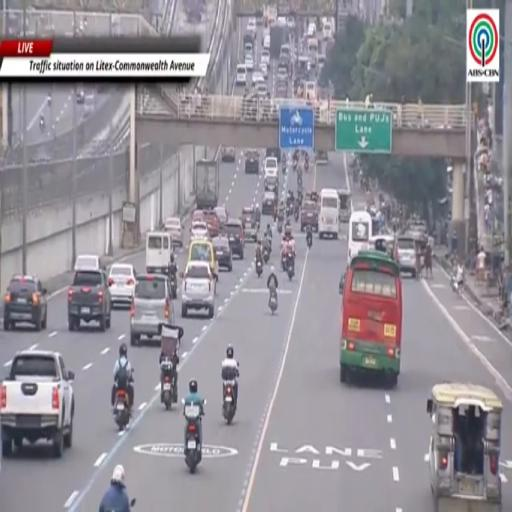bus: (340, 251, 402, 387), (348, 211, 372, 262), (319, 188, 339, 238)
car: (130, 275, 173, 345), (68, 269, 111, 331), (4, 276, 47, 330), (182, 262, 215, 317), (108, 263, 136, 308), (397, 236, 416, 277), (225, 219, 244, 259), (213, 236, 232, 271), (241, 207, 258, 242), (165, 217, 184, 247), (301, 201, 318, 232), (203, 209, 220, 238), (74, 254, 102, 270), (190, 221, 210, 240), (264, 169, 278, 193), (262, 191, 276, 215), (215, 205, 228, 230), (245, 150, 259, 173), (236, 63, 247, 86), (264, 156, 278, 174), (266, 148, 281, 162), (277, 64, 288, 83), (252, 72, 266, 86), (222, 147, 235, 162), (255, 83, 267, 99), (276, 82, 288, 98), (246, 19, 256, 36), (191, 210, 204, 223), (323, 23, 332, 39), (76, 88, 85, 104), (245, 55, 254, 71), (260, 62, 268, 79), (261, 50, 270, 65), (307, 23, 316, 37), (286, 16, 295, 28), (263, 35, 270, 49)
jeepney: (427, 382, 502, 511), (369, 235, 395, 258), (338, 189, 351, 222)
motorcycle: (182, 399, 202, 473), (161, 359, 177, 410), (114, 390, 131, 430), (223, 380, 236, 424), (451, 276, 463, 296), (286, 253, 294, 280), (269, 290, 277, 314), (170, 272, 177, 298), (256, 260, 263, 278), (306, 232, 312, 249), (286, 203, 293, 217), (263, 248, 269, 264), (282, 253, 287, 271), (39, 117, 45, 130), (277, 219, 282, 234), (294, 206, 299, 221), (297, 176, 302, 188), (282, 162, 287, 173), (304, 160, 308, 171)
truck: (0, 350, 74, 457), (195, 158, 219, 209), (270, 25, 289, 59)
